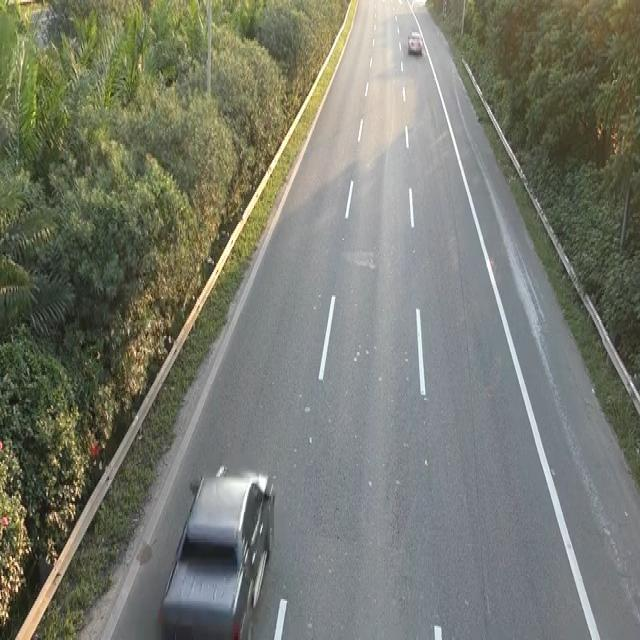car: (157, 458, 276, 634)
